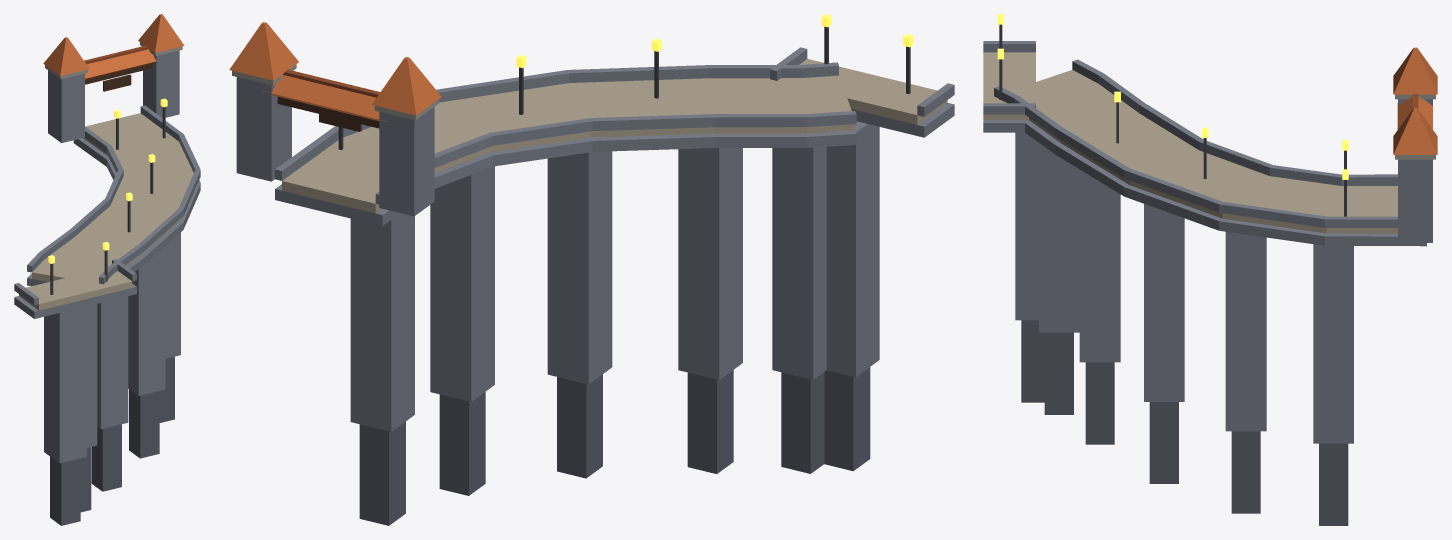
File: LOBBY_VM_07_EXIT_2856ea.fbx
The picture shows the model from 3 angles, left to right: view 1: azimuth 30°, elevation 25°; view 2: azimuth 150°, elevation 25°; view 3: azimuth 270°, elevation 25°; orthographic projection. The views are drawn at different scales.
Parts seen in each view (by area): view 1: VM_Exit_Bridge__Stone_VM_Base, VM_Exit_Bridge__Stone_Paving_VM, VM_Exit_Bridge__Stone_VM_Dark, VM_Exit_Gate__Stone_VM_Base, VM_Exit_Gate__Roof_VM_Terracotta, VM_Exit_Bridge__Metal_VM_Iron, VM_Exit_Gate__Wood_VM_Timber, VM_Exit_Bridge__Lantern_Glow, VM_Exit_Gate__Roof_VM_Ridge, VM_Exit_Gate__Stone_VM_Trim; view 2: VM_Exit_Bridge__Stone_VM_Base, VM_Exit_Bridge__Stone_Paving_VM, VM_Exit_Bridge__Stone_VM_Dark, VM_Exit_Gate__Stone_VM_Base, VM_Exit_Gate__Roof_VM_Terracotta, VM_Exit_Gate__Wood_VM_Timber, VM_Exit_Bridge__Metal_VM_Iron; view 3: VM_Exit_Bridge__Stone_VM_Base, VM_Exit_Bridge__Stone_Paving_VM, VM_Exit_Bridge__Stone_VM_Dark, VM_Exit_Gate__Roof_VM_Terracotta, VM_Exit_Gate__Stone_VM_Base, VM_Exit_Bridge__Metal_VM_Iron.
Part boxes in pixels (<box>): VM_Exit_Bridge__Stone_VM_Base: <box>14,105,200,463</box>; VM_Exit_Bridge__Stone_Paving_VM: <box>19,113,193,310</box>; VM_Exit_Bridge__Stone_VM_Dark: <box>50,356,174,525</box>; VM_Exit_Gate__Stone_VM_Base: <box>48,50,179,143</box>; VM_Exit_Gate__Roof_VM_Terracotta: <box>43,14,184,80</box>; VM_Exit_Bridge__Metal_VM_Iron: <box>50,107,165,294</box>; VM_Exit_Gate__Wood_VM_Timber: <box>85,63,152,91</box>; VM_Exit_Bridge__Lantern_Glow: <box>48,98,167,263</box>; VM_Exit_Gate__Roof_VM_Ridge: <box>84,45,148,64</box>; VM_Exit_Gate__Stone_VM_Trim: <box>45,42,182,79</box>; VM_Exit_Bridge__Stone_VM_Base: <box>275,47,954,431</box>; VM_Exit_Bridge__Stone_Paving_VM: <box>282,59,947,213</box>; VM_Exit_Bridge__Stone_VM_Dark: <box>359,367,870,525</box>; VM_Exit_Gate__Stone_VM_Base: <box>236,77,434,216</box>; VM_Exit_Gate__Roof_VM_Terracotta: <box>229,22,441,121</box>; VM_Exit_Gate__Wood_VM_Timber: <box>277,97,379,131</box>; VM_Exit_Bridge__Metal_VM_Iron: <box>338,26,910,149</box>; VM_Exit_Bridge__Stone_VM_Base: <box>983,41,1426,443</box>; VM_Exit_Bridge__Stone_Paving_VM: <box>983,52,1397,233</box>; VM_Exit_Bridge__Stone_VM_Dark: <box>1021,320,1348,525</box>; VM_Exit_Gate__Roof_VM_Terracotta: <box>1393,47,1437,154</box>; VM_Exit_Gate__Stone_VM_Base: <box>1398,99,1432,242</box>; VM_Exit_Bridge__Metal_VM_Iron: <box>999,24,1346,216</box>.
Size of the model in its own units: 79.2 by 83.4 by 77.8.
